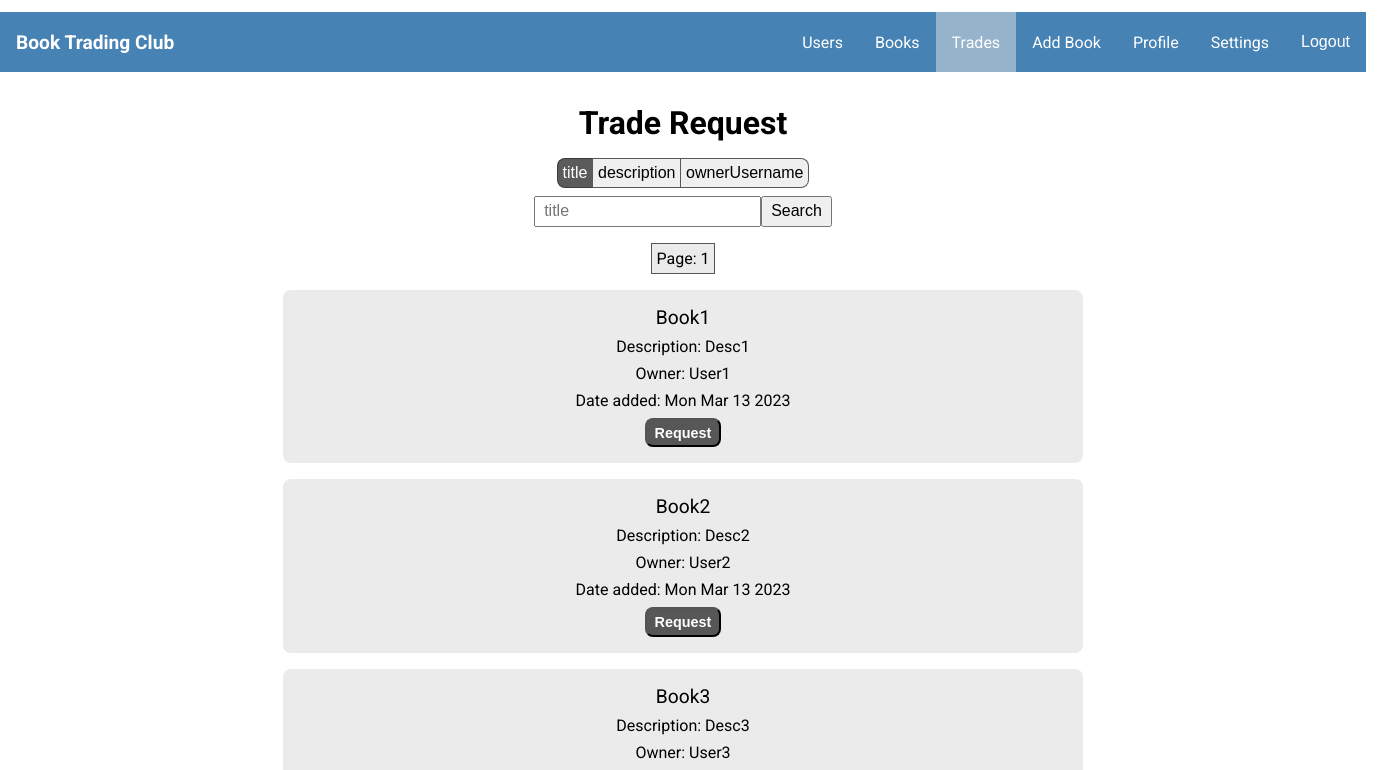
----- <Request/> ----- › correctly removes a requested book
The width and height of the screenshot is (1378, 770).
Click the button "Request" below "Book1" at (683, 433), box x1=645 y1=418 x2=721 y2=447
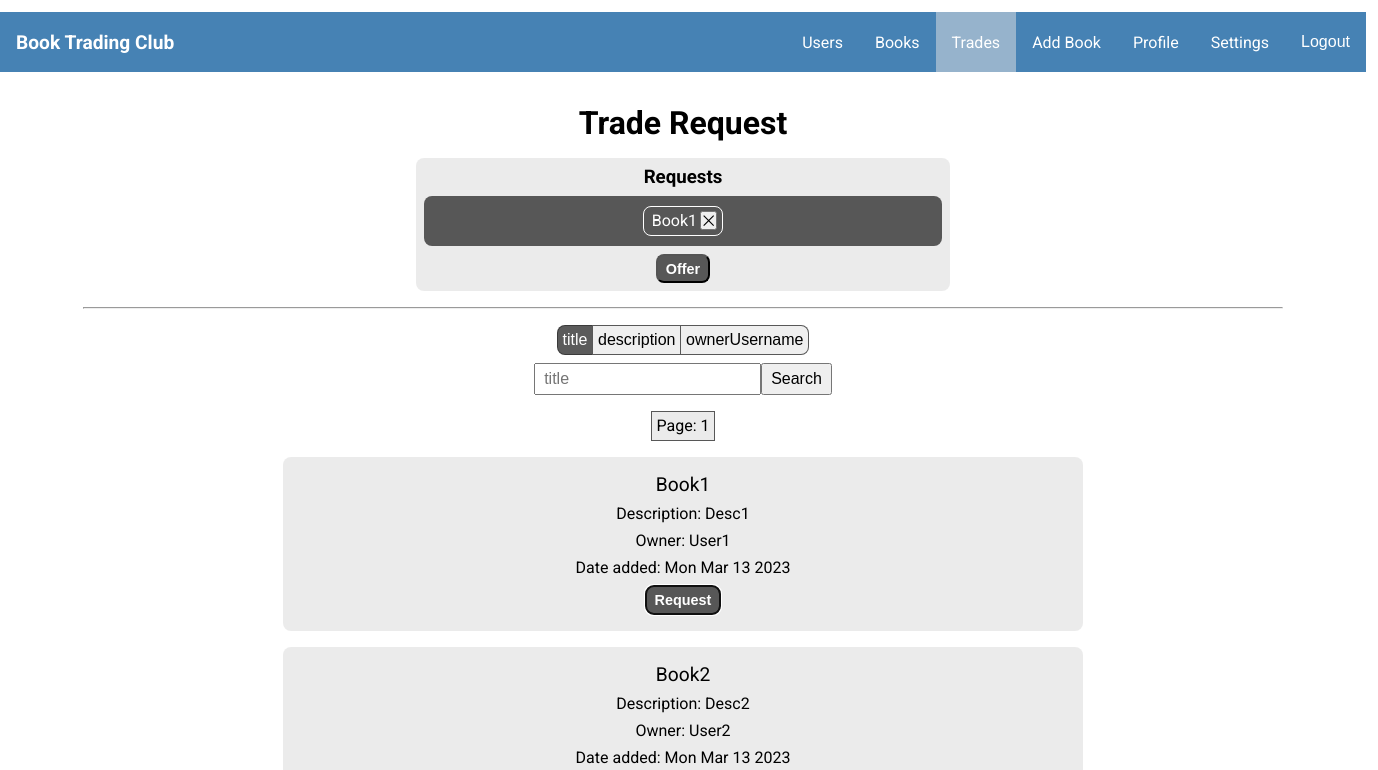
Expected: the number of list items with test id "pendingTradeDisplay-book" is 1, x1=643 y1=206 x2=723 y2=236
Click the button with test id "pendingTradeDisplay-remove" at (709, 221), box x1=700 y1=211 x2=717 y2=230
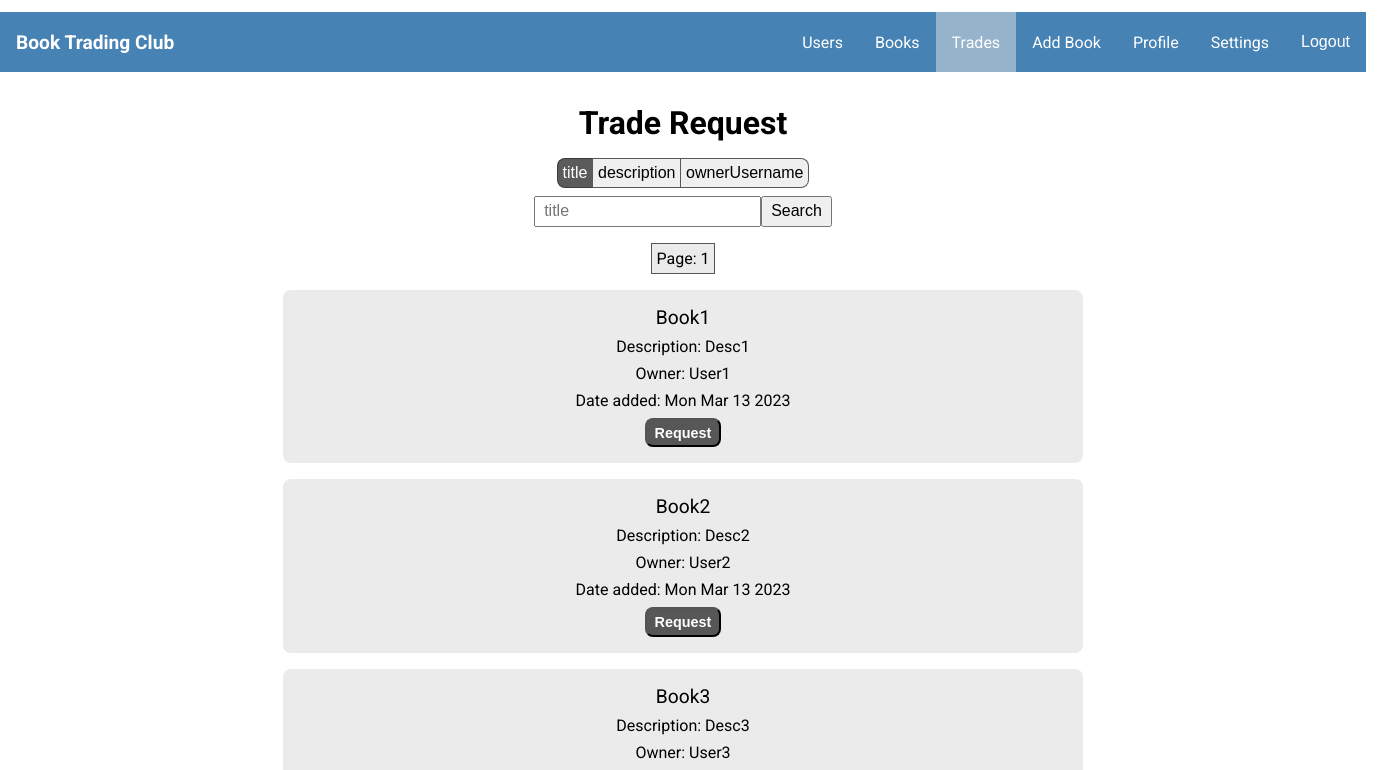
Expected: no list items with test id "pendingTradeDisplay-book" are shown
